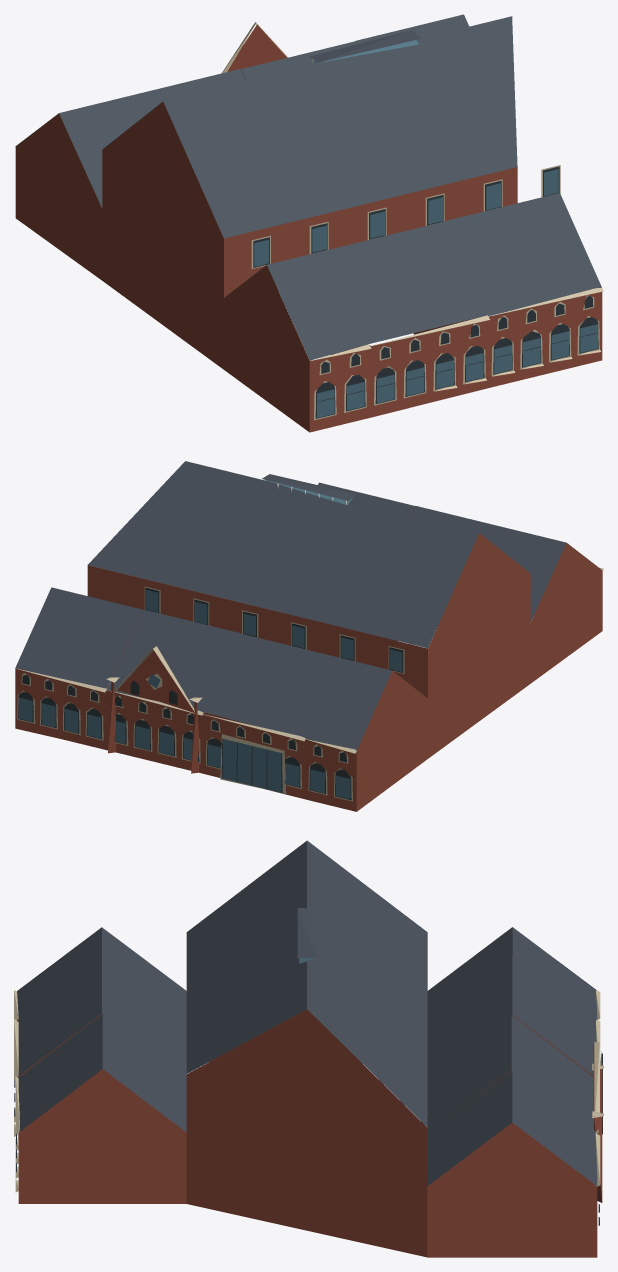
Rendered from amsterdam-in-motion.lod1.glb.
3 renders of one model, top to bottom at view 1: azimuth 30°, elevation 25°; view 2: azimuth 150°, elevation 25°; view 3: azimuth 270°, elevation 25°, orthographic. The views are drawn at different scales.
Parts seen in each view (by area): view 1: amsterdam-in-motion; view 2: amsterdam-in-motion; view 3: amsterdam-in-motion.
Part boxes in pixels (box(x1,y1,x2,y2)): amsterdam-in-motion: box(15, 14, 603, 432); amsterdam-in-motion: box(15, 461, 603, 811); amsterdam-in-motion: box(14, 840, 603, 1257).
Size of the model in its own units: 32.88 by 17.79 by 41.86.
